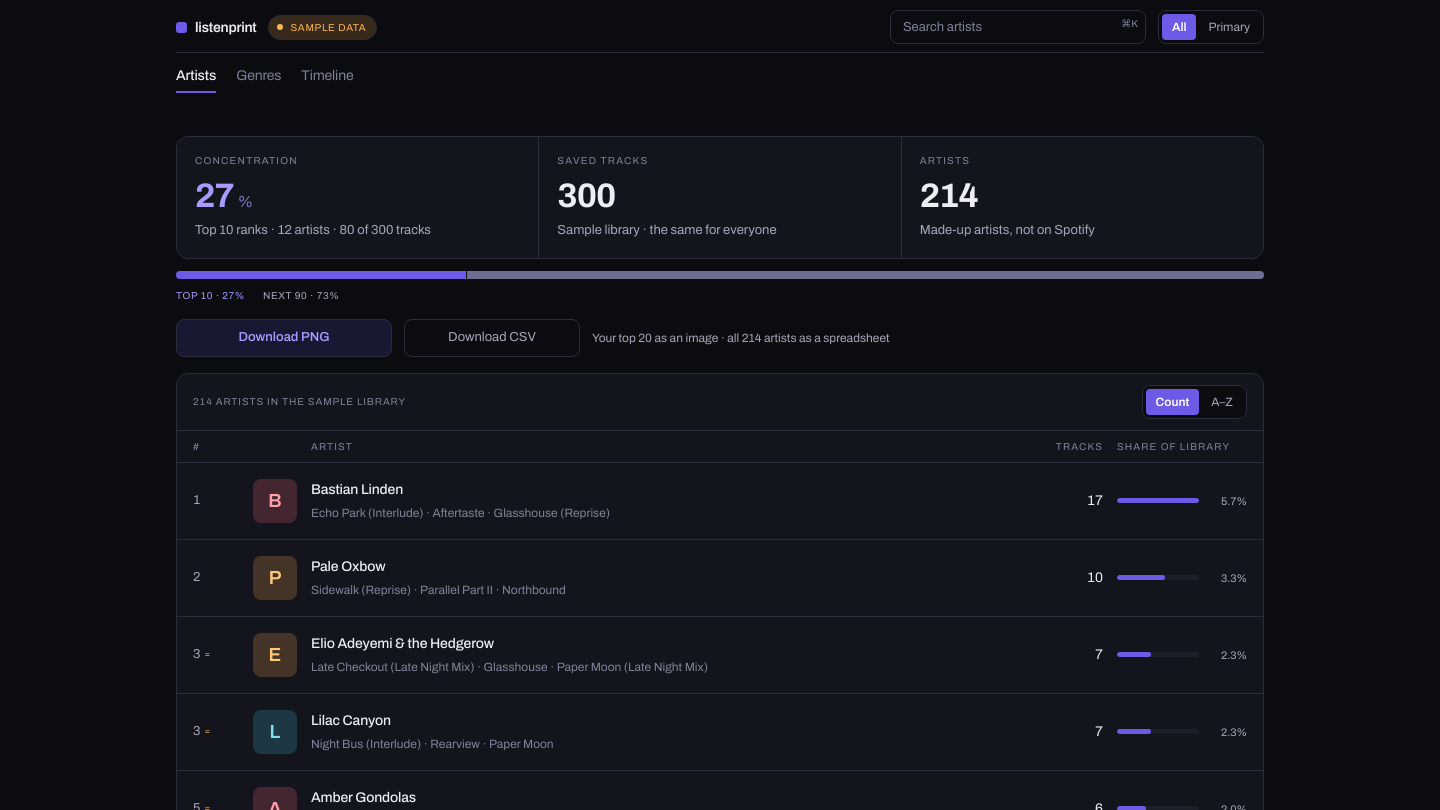
Test: searching the demo ranking › filters the list as you type and settles in the URL
In the search field labelled "Search artists": point(1018, 27) [890,10,1146,44], type "Bast"
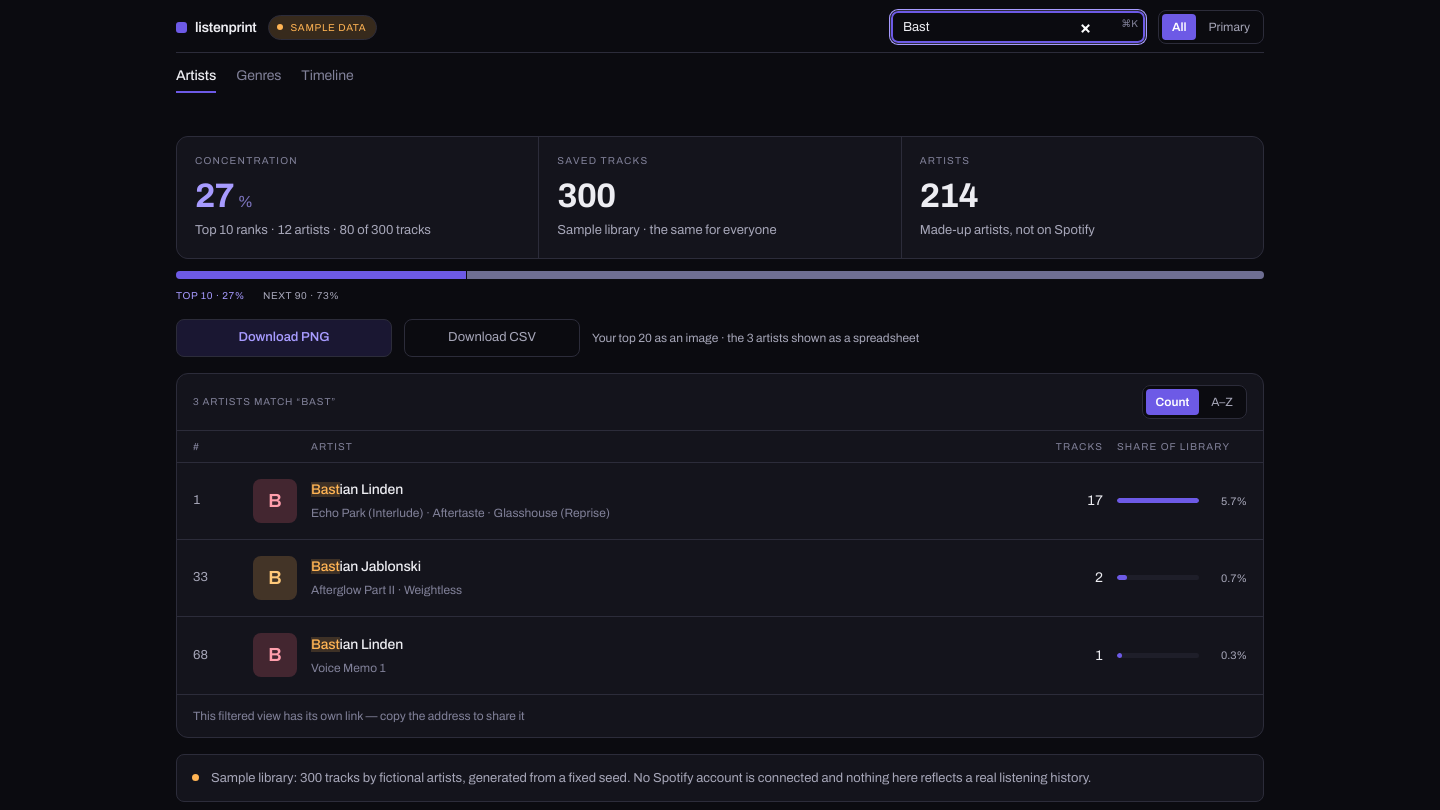
Result: the heading shows "match “" at [193,396,336,407]
